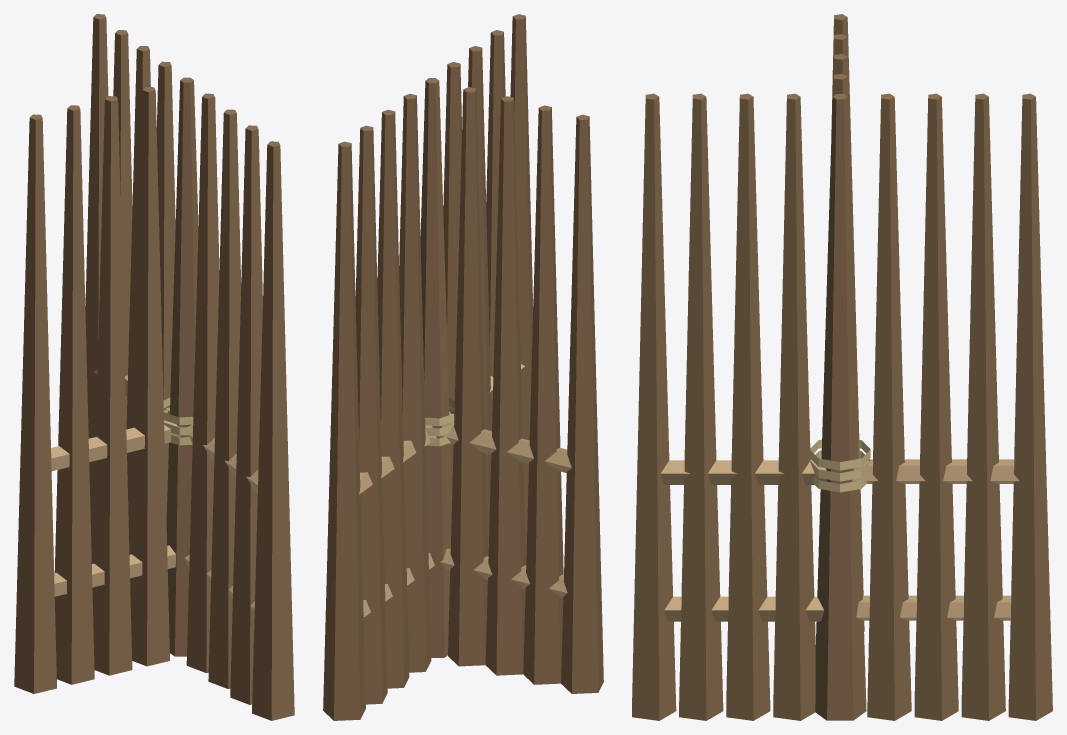
The model's file is palisade_0d.glb.
The picture shows the model from 3 angles, left to right: view 1: azimuth 30°, elevation 25°; view 2: azimuth 150°, elevation 25°; view 3: azimuth 270°, elevation 25°; orthographic projection. The views are drawn at different scales.
Parts seen in each view (by area): view 1: palisade_0d; view 2: palisade_0d; view 3: palisade_0d.
Part boxes in pixels (x1=…): palisade_0d: x1=14, y1=14, x2=294, y2=720; palisade_0d: x1=323, y1=14, x2=603, y2=720; palisade_0d: x1=632, y1=14, x2=1052, y2=720.
Bounding box in the file's own units: 0.6428 × 1.8 × 1.12.
